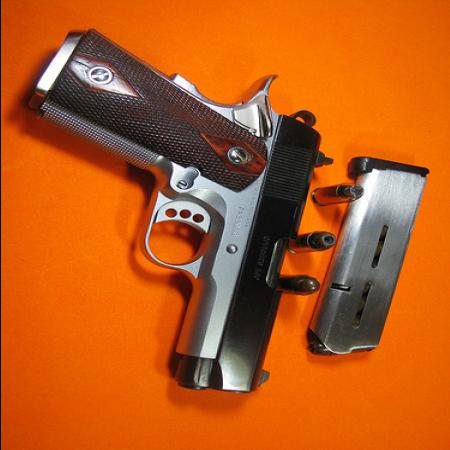Pistol: (33, 25, 335, 393)
